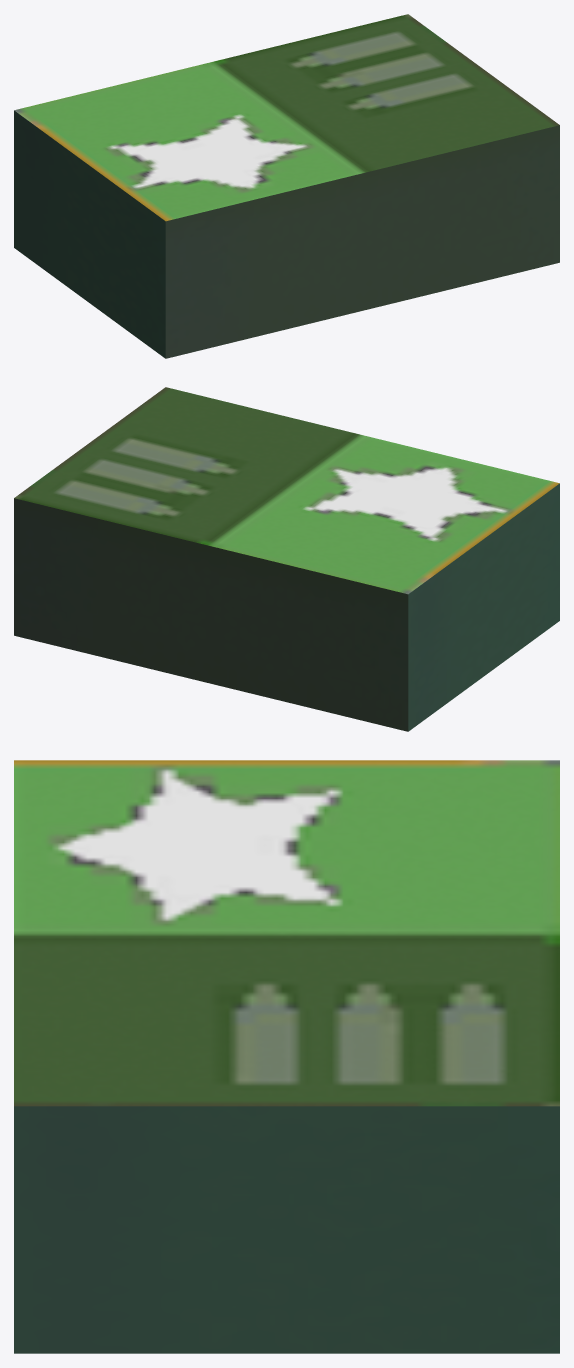
File: Ammunition_556MM_Base_0_Mod.FBX
The picture shows the model from 3 angles, top to bottom: view 1: azimuth 30°, elevation 25°; view 2: azimuth 150°, elevation 25°; view 3: azimuth 270°, elevation 25°; orthographic projection. The views are drawn at different scales.
Visible parts, largest first — view 1: Ammunition_556MM_Base_0_Mod; view 2: Ammunition_556MM_Base_0_Mod; view 3: Ammunition_556MM_Base_0_Mod.
Boxes of the visible parts, x1,y1,x2,y2 form: Ammunition_556MM_Base_0_Mod: (14, 14, 559, 358); Ammunition_556MM_Base_0_Mod: (14, 387, 559, 731); Ammunition_556MM_Base_0_Mod: (14, 760, 559, 1353).
Size of the model in its own units: 9.3 by 3.1 by 6.2.
